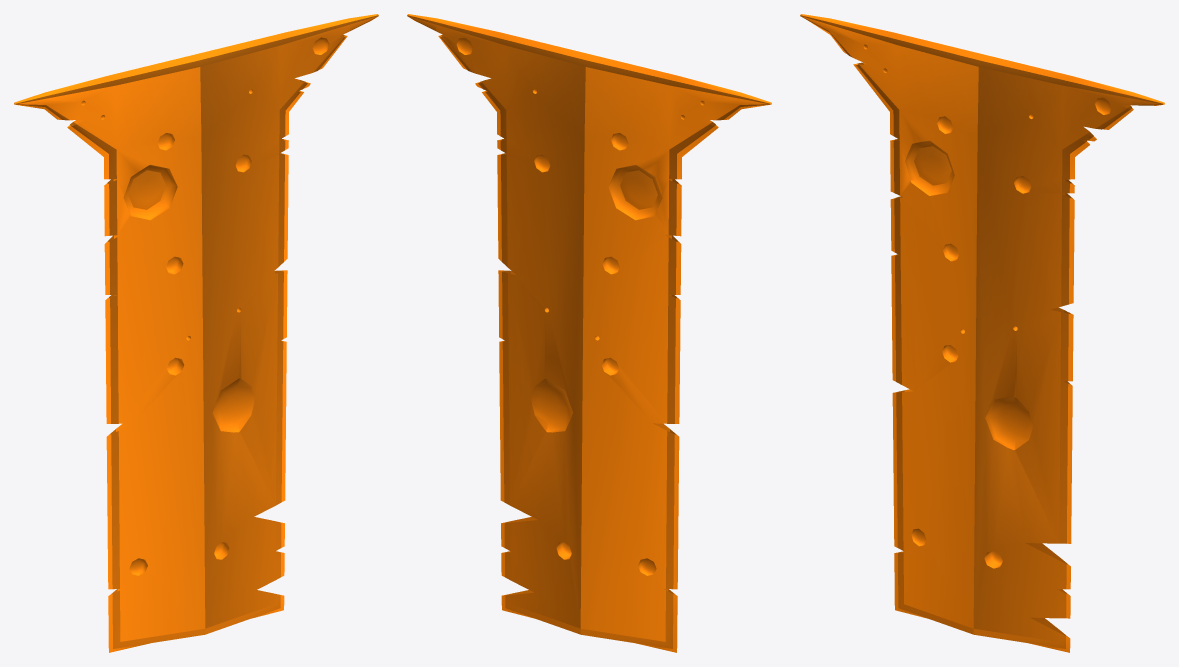
The model's file is bronze_blade_bubbles_031.glb.
3 views of the same model, side by side, from view 1: azimuth 30°, elevation 25°; view 2: azimuth 150°, elevation 25°; view 3: azimuth 330°, elevation 25° (orthographic).
Visible parts, largest first — view 1: bronze_blade_bubbles.031; view 2: bronze_blade_bubbles.031; view 3: bronze_blade_bubbles.031.
Part boxes in pixels (x1=…): bronze_blade_bubbles.031: x1=14, y1=14, x2=378, y2=652; bronze_blade_bubbles.031: x1=407, y1=14, x2=771, y2=652; bronze_blade_bubbles.031: x1=800, y1=14, x2=1164, y2=652.
Size of the model in its own units: 7.54 by 11.44 by 0.6326.
1 material, 1 textured.
